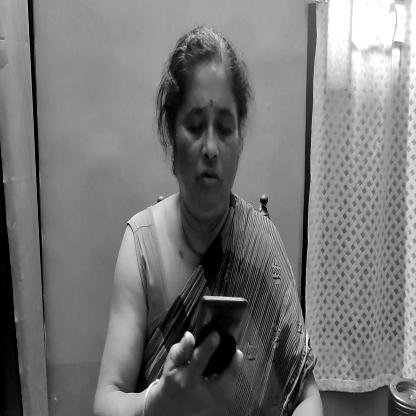Distracted: (161, 35, 250, 226)
